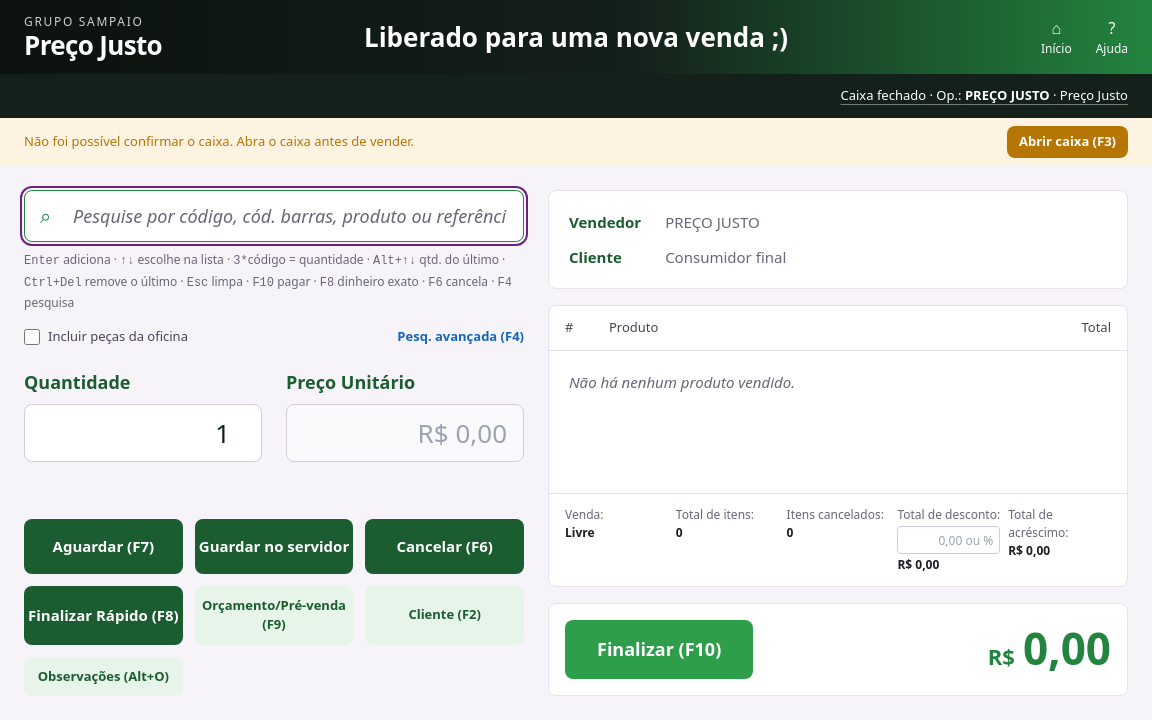
D-02: a leitura e o Finalizar › bipe com o F8 no ar é do PRÓXIMO cliente: fica no carrinho novo, fora da venda que saiu
Type "7898215151784" into the field labelled "Pesquise por código, cód. barras, produto ou referência". click: (274, 216)
box: [24, 190, 524, 242]
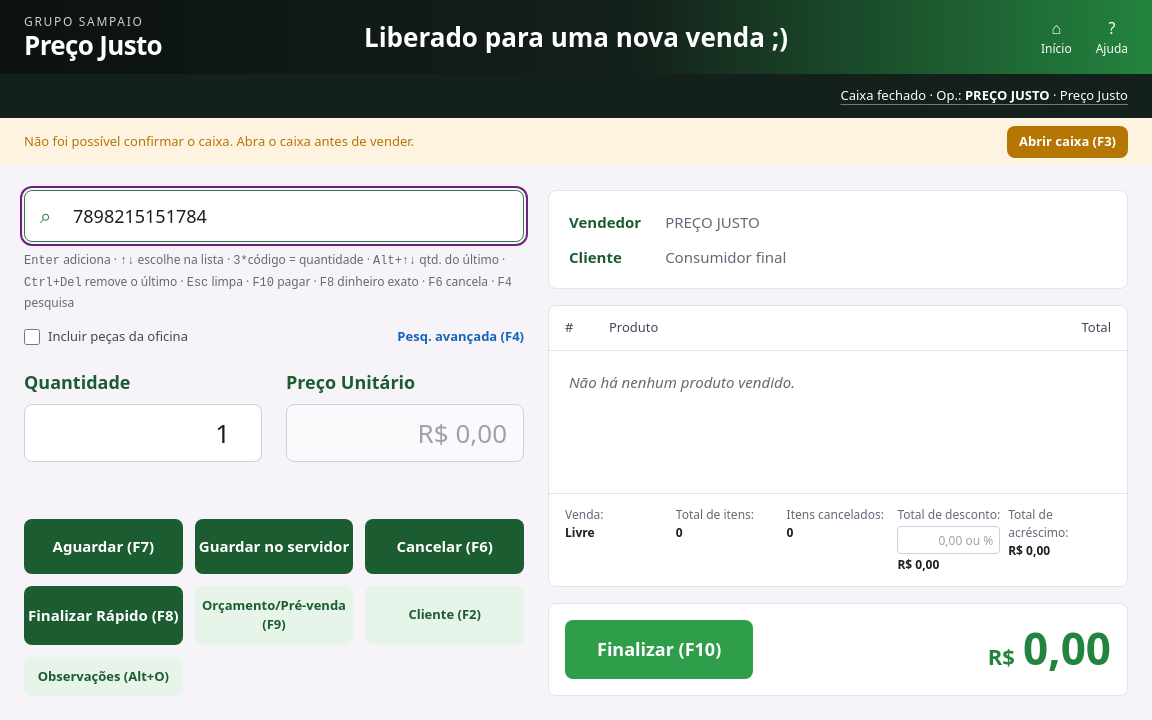
Press Enter in the field named "Pesquise por código", box [24, 190, 524, 242]
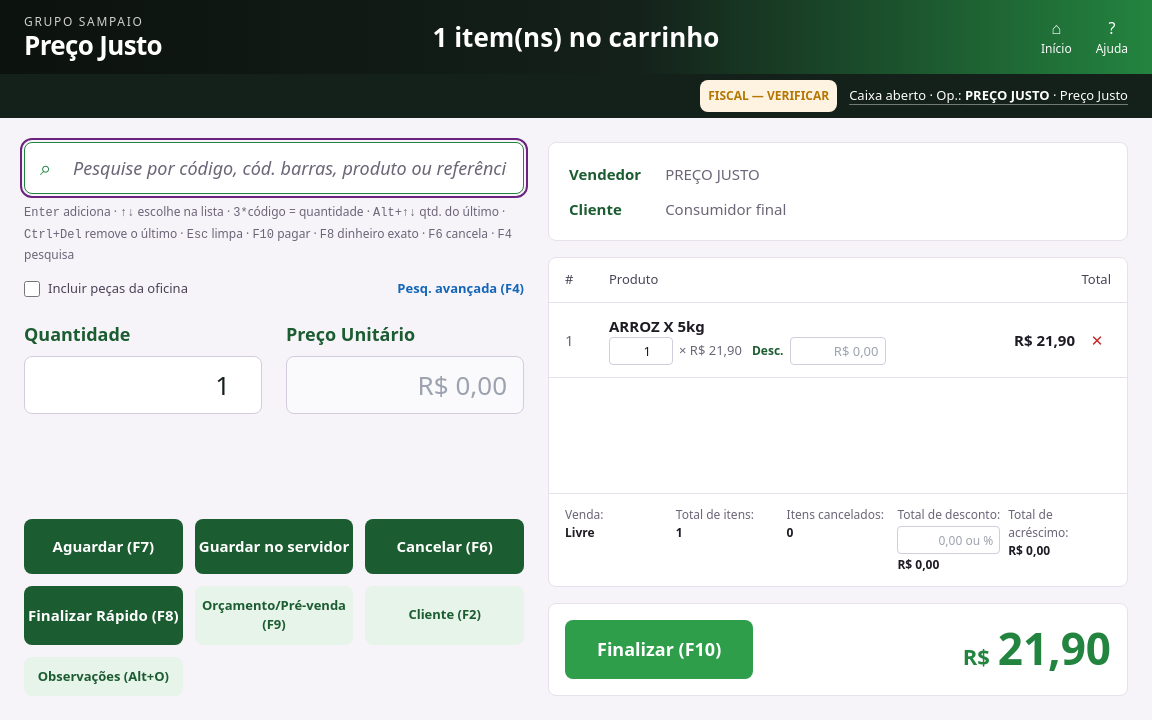
Press F8 in the field labelled "Pesquise por código, cód. barras, produto ou referência", box [24, 142, 524, 194]
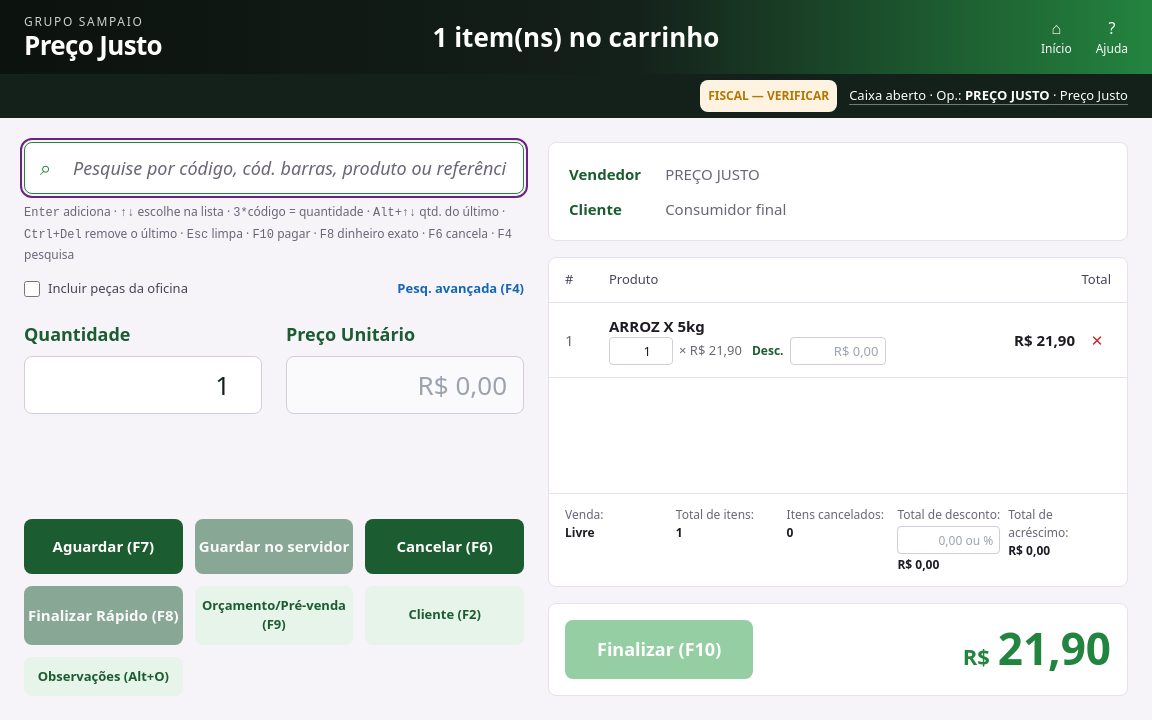
Type "7896006711116" into the field labelled "Pesquise por código, cód. barras, produto ou referência". click: (274, 168)
box: [24, 142, 524, 194]
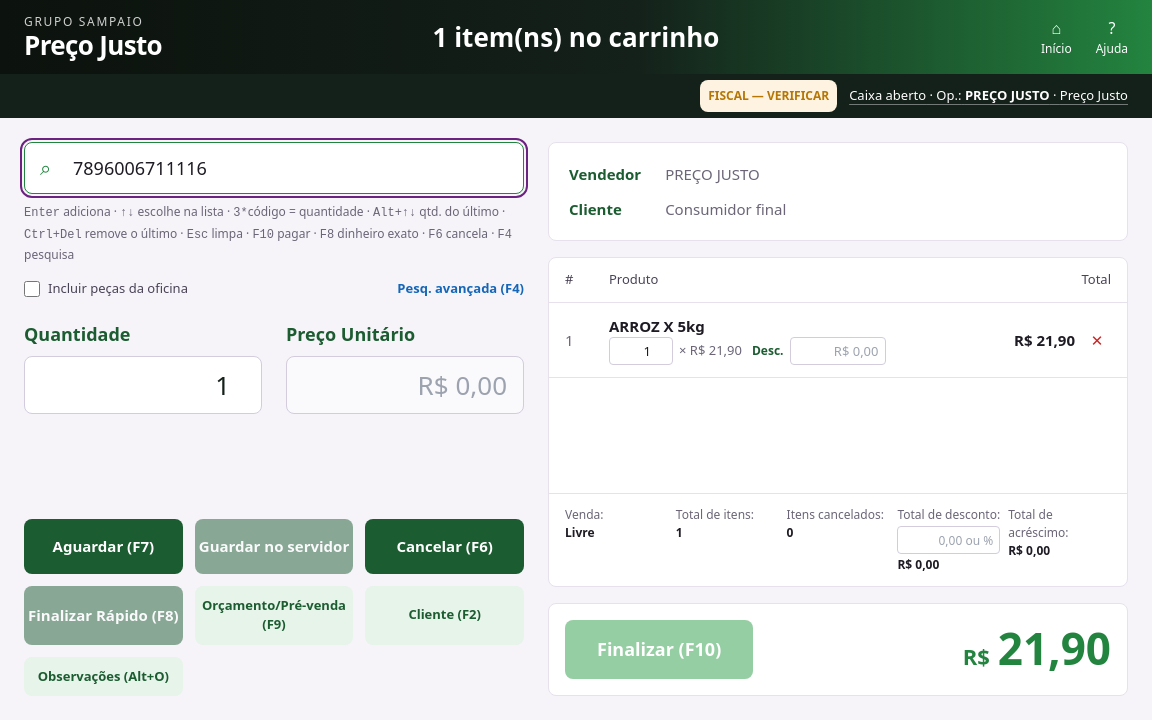
Press Enter in the field named "Pesquise por código", box [24, 142, 524, 194]
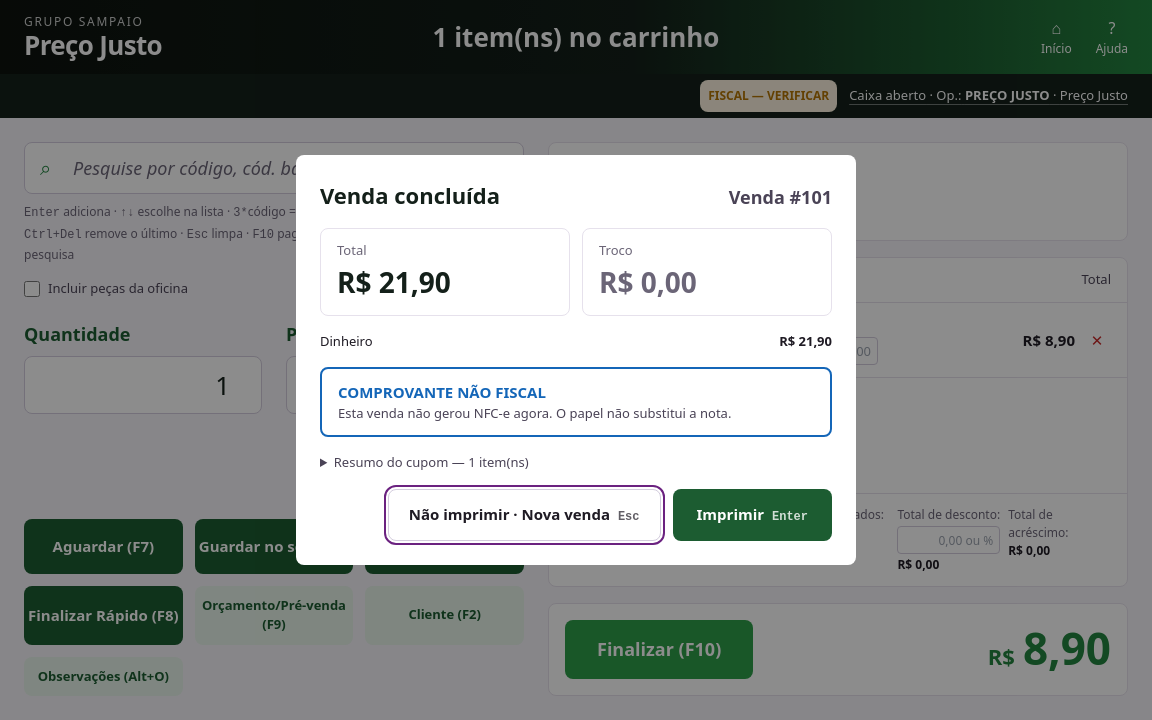
Result: the dialog "Venda concluída" is shown
